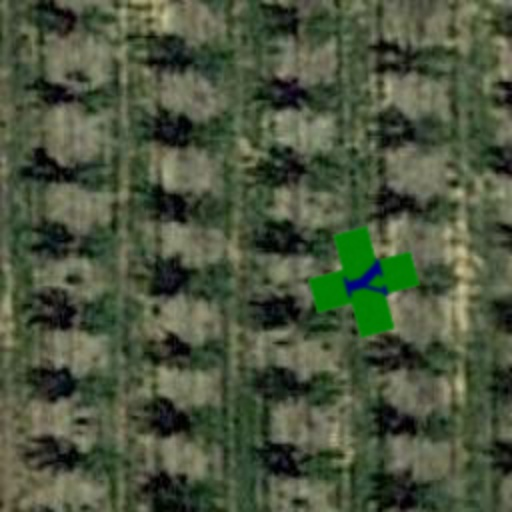cross: (298, 216, 430, 348)
